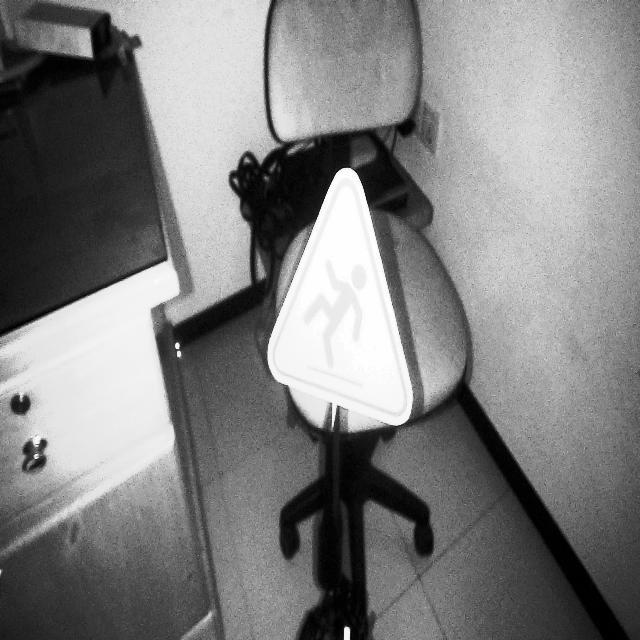Sign: (266, 164, 415, 430)
